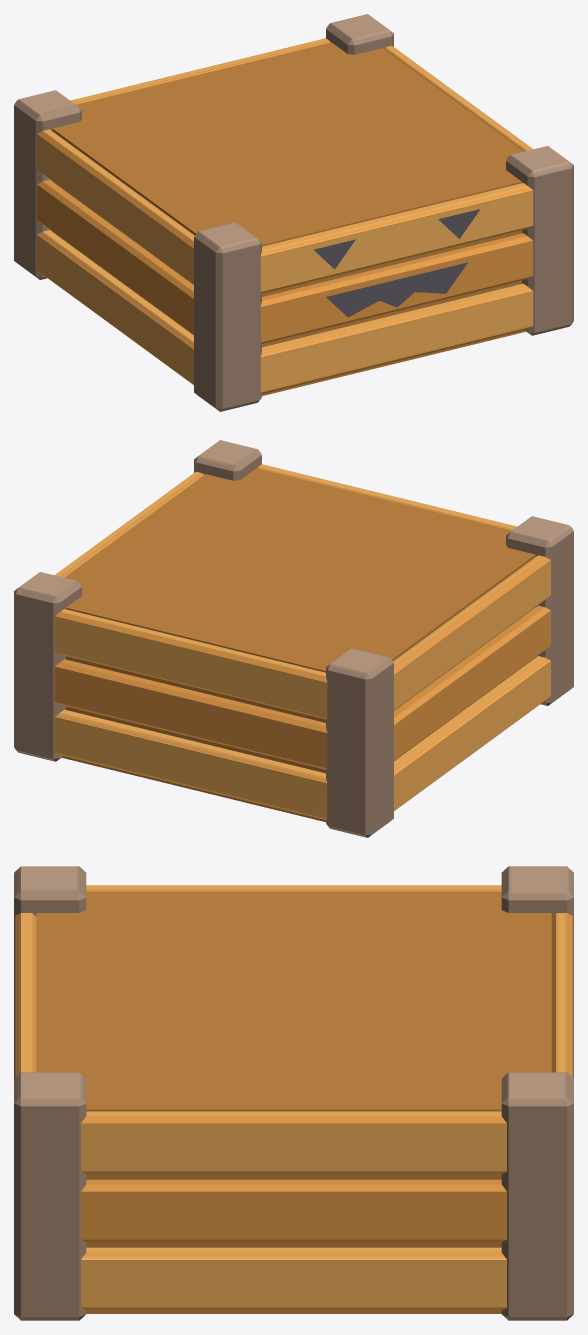
The model's file is FoodContainer.fbx.
3 renders of one model, top to bottom at view 1: azimuth 30°, elevation 25°; view 2: azimuth 150°, elevation 25°; view 3: azimuth 270°, elevation 25°, orthographic. The views are drawn at different scales.
Parts seen in each view (by area): view 1: FoodContainer; view 2: FoodContainer; view 3: FoodContainer.
Part boxes in pixels (left/top/right/bottom): FoodContainer: left=14, top=14, right=573, bottom=411; FoodContainer: left=14, top=440, right=573, bottom=837; FoodContainer: left=14, top=866, right=573, bottom=1320.
Size of the model in its own units: 402 by 177 by 402.
Materials: 1 (1 with a texture image).
